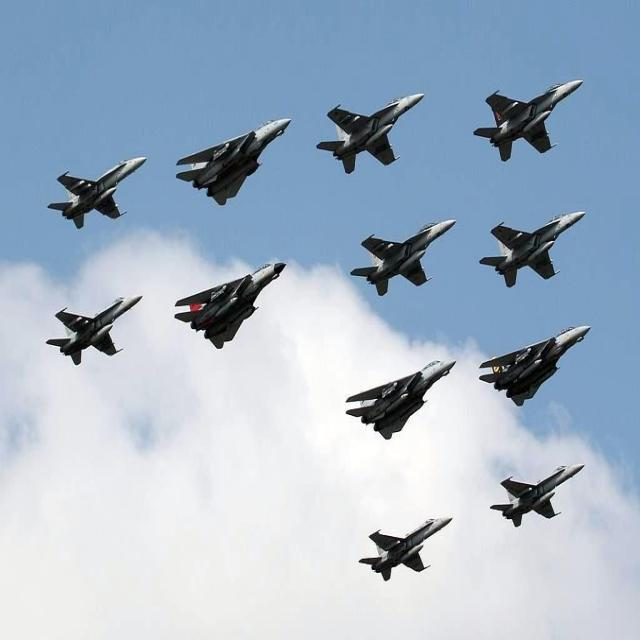MIL_Plane: (345, 341, 457, 458), (479, 307, 591, 424), (176, 116, 292, 206), (174, 263, 287, 350), (472, 78, 584, 162), (316, 93, 425, 175), (349, 218, 457, 297), (479, 210, 586, 289), (20, 156, 129, 230), (45, 294, 144, 366), (358, 516, 454, 582), (506, 462, 570, 528)
